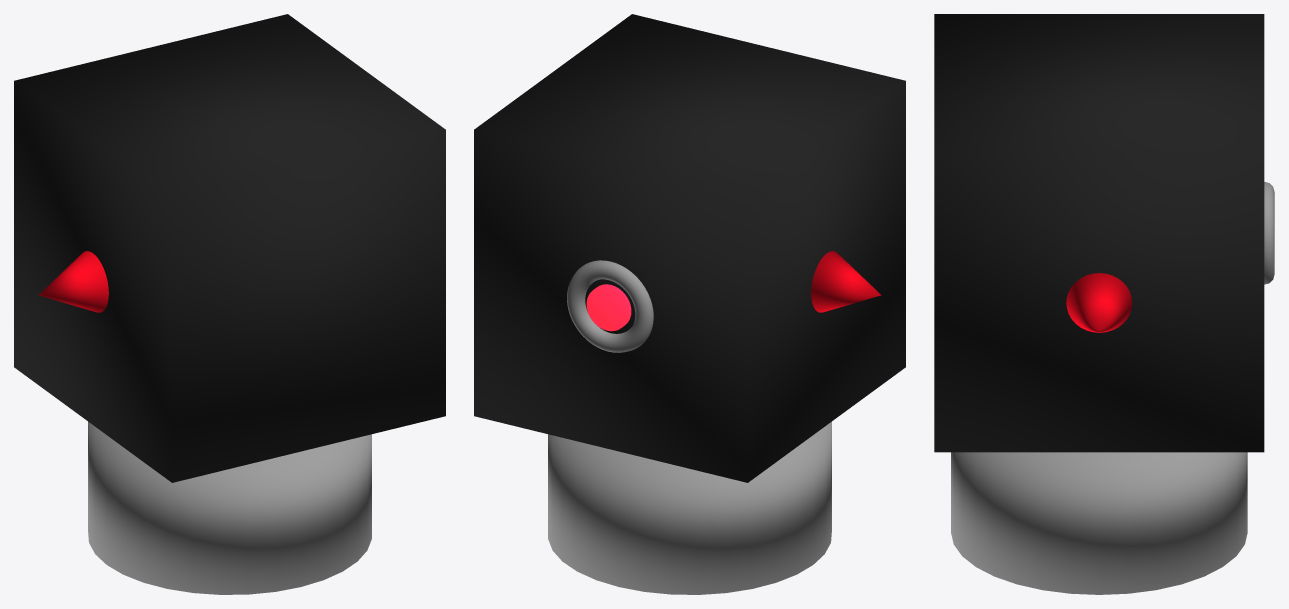
File: Enemy.fbx
3 renders of one model, left to right at view 1: azimuth 30°, elevation 25°; view 2: azimuth 150°, elevation 25°; view 3: azimuth 270°, elevation 25°, orthographic. The views are drawn at different scales.
Visible parts, largest first — view 1: Cube, 円柱.001, 円錐.001; view 2: Cube, 円柱.001, トーラス, 円錐.001, 円柱; view 3: Cube, 円柱.001, 円錐, トーラス.
Part boxes in pixels (x1,y1,x2,y2): Cube: [14, 14, 445, 482]; 円柱.001: [88, 421, 371, 594]; 円錐.001: [38, 251, 108, 312]; Cube: [474, 14, 905, 482]; 円柱.001: [548, 421, 831, 594]; トーラス: [567, 260, 653, 352]; 円錐.001: [811, 251, 881, 312]; 円柱: [586, 284, 631, 331]; Cube: [934, 14, 1264, 452]; 円柱.001: [951, 452, 1247, 594]; 円錐: [1066, 273, 1132, 332]; トーラス: [1264, 182, 1274, 284].
Bounding box in the file's own units: 280 × 300 × 206.
